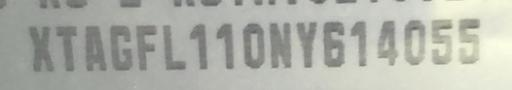letter: (78, 23, 108, 71), (27, 24, 57, 72), (371, 19, 401, 66), (454, 18, 484, 64), (319, 20, 349, 66), (158, 25, 188, 71), (427, 18, 455, 66), (240, 22, 268, 70), (186, 23, 214, 71), (212, 23, 240, 71), (266, 23, 294, 69), (106, 23, 134, 69), (294, 21, 320, 68), (134, 23, 160, 70), (54, 24, 80, 71), (402, 19, 426, 66), (350, 19, 372, 65)
